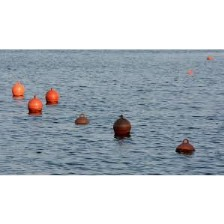buoy: (114, 119, 131, 137), (28, 97, 43, 113), (176, 143, 195, 154), (12, 84, 26, 97), (47, 89, 59, 104), (74, 116, 90, 126)
